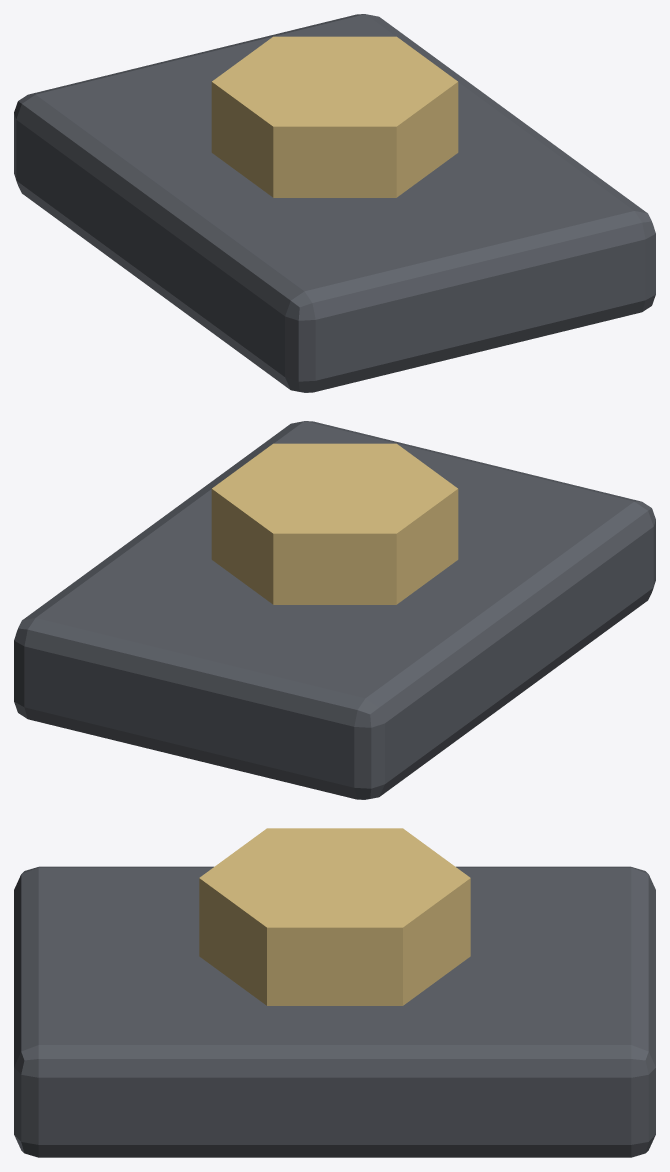
Rendered from toggle_base.glb.
3 views of the same model, one above another, from view 1: azimuth 30°, elevation 25°; view 2: azimuth 150°, elevation 25°; view 3: azimuth 270°, elevation 25° (orthographic). The views are drawn at different scales.
Parts seen in each view (by area): view 1: SwitchPlate, HexNut; view 2: SwitchPlate, HexNut; view 3: SwitchPlate, HexNut.
Boxes of the visible parts, x1,y1,x2,y2 form: SwitchPlate: [14, 14, 655, 392]; HexNut: [211, 36, 458, 197]; SwitchPlate: [14, 421, 655, 799]; HexNut: [211, 443, 458, 604]; SwitchPlate: [14, 866, 655, 1157]; HexNut: [199, 828, 470, 1005].
Size of the model in its own units: 0.038 by 0.017 by 0.052.
